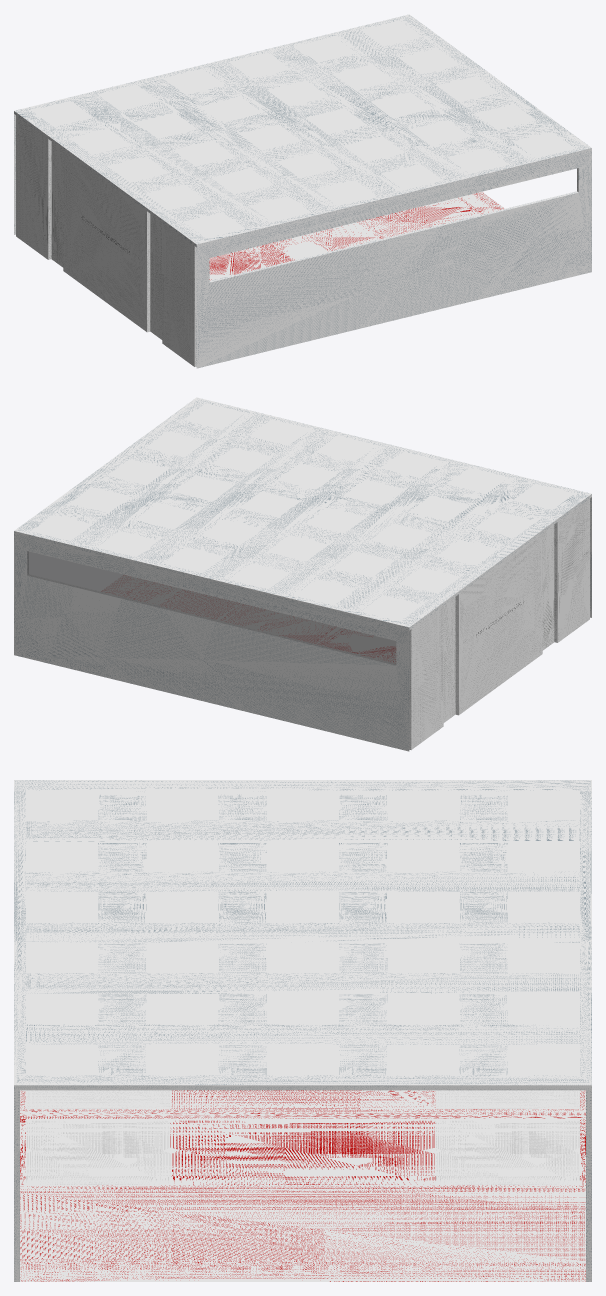
The model's file is Hall.fbx.
3 renders of one model, top to bottom at view 1: azimuth 30°, elevation 25°; view 2: azimuth 150°, elevation 25°; view 3: azimuth 270°, elevation 25°, orthographic. The views are drawn at different scales.
Visible parts, largest first — view 1: Model; view 2: Model; view 3: Model.
Part boxes in pixels (left/top/right/bottom): Model: left=14, top=14, right=591, bottom=368; Model: left=14, top=397, right=591, bottom=751; Model: left=14, top=780, right=591, bottom=1281.
Size of the model in its own units: 30 by 9 by 24.
